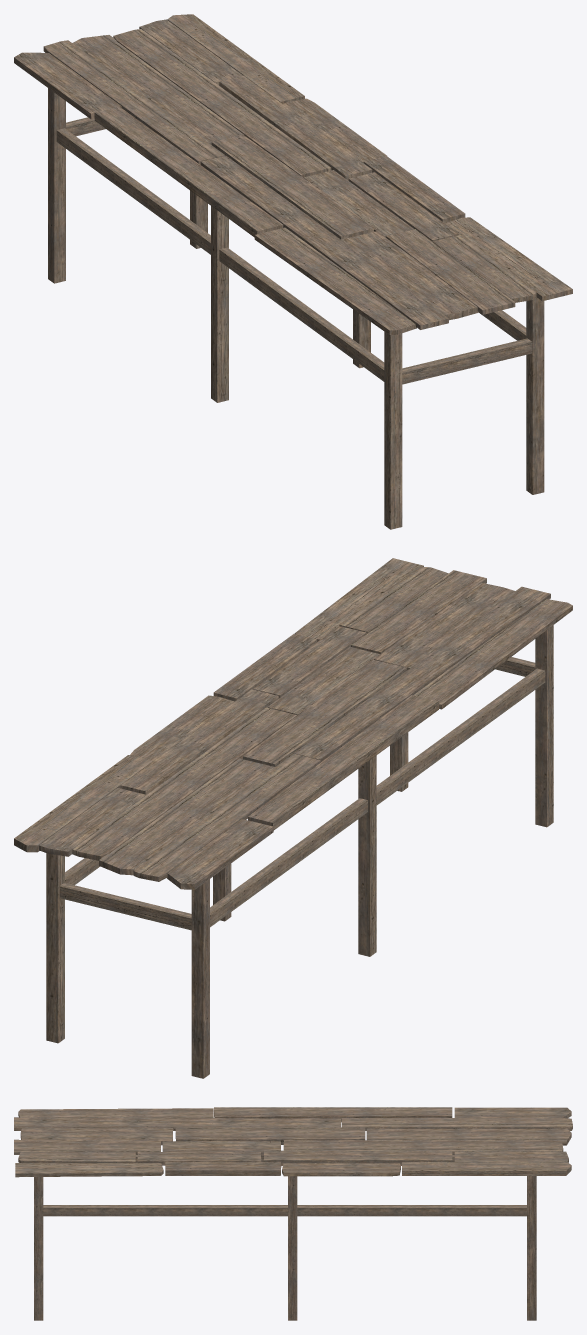
The model's file is Prop_Mq04_lod1.glb.
The picture shows the model from 3 angles, top to bottom: view 1: azimuth 30°, elevation 25°; view 2: azimuth 150°, elevation 25°; view 3: azimuth 270°, elevation 25°; orthographic projection. The views are drawn at different scales.
Visible parts, largest first — view 1: xiutz_mq_04_lod1; view 2: xiutz_mq_04_lod1; view 3: xiutz_mq_04_lod1.
Boxes of the visible parts, <box> form: xiutz_mq_04_lod1: <box>14,14,572,529</box>; xiutz_mq_04_lod1: <box>14,558,572,1078</box>; xiutz_mq_04_lod1: <box>14,1107,572,1320</box>.
Bounding box in the file's own units: 3.96 × 4.37 × 14.27.
Materials: 1 (1 with a texture image).
